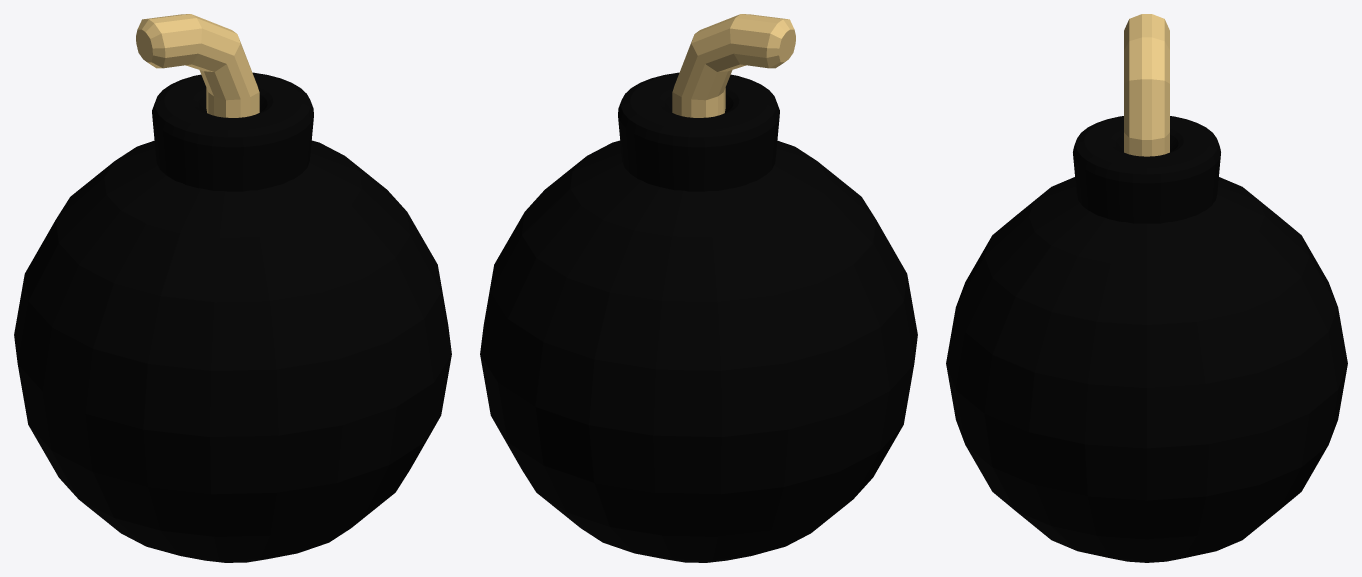
Rendered from bomb.fbx.
The picture shows the model from 3 angles, left to right: view 1: azimuth 30°, elevation 25°; view 2: azimuth 150°, elevation 25°; view 3: azimuth 270°, elevation 25°; orthographic projection. The views are drawn at different scales.
Visible parts, largest first — view 1: bomb, fuse; view 2: bomb, fuse; view 3: bomb, fuse.
Part boxes in pixels (x1,y1,x2,y2): bomb: [14, 72, 451, 562]; fuse: [136, 14, 259, 117]; bomb: [480, 72, 917, 562]; fuse: [672, 14, 795, 117]; bomb: [946, 116, 1347, 562]; fuse: [1124, 14, 1169, 156].
Size of the model in its own units: 0.8024 by 1.09 by 0.8024.
